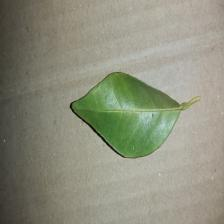greening: (70, 71, 202, 162)
